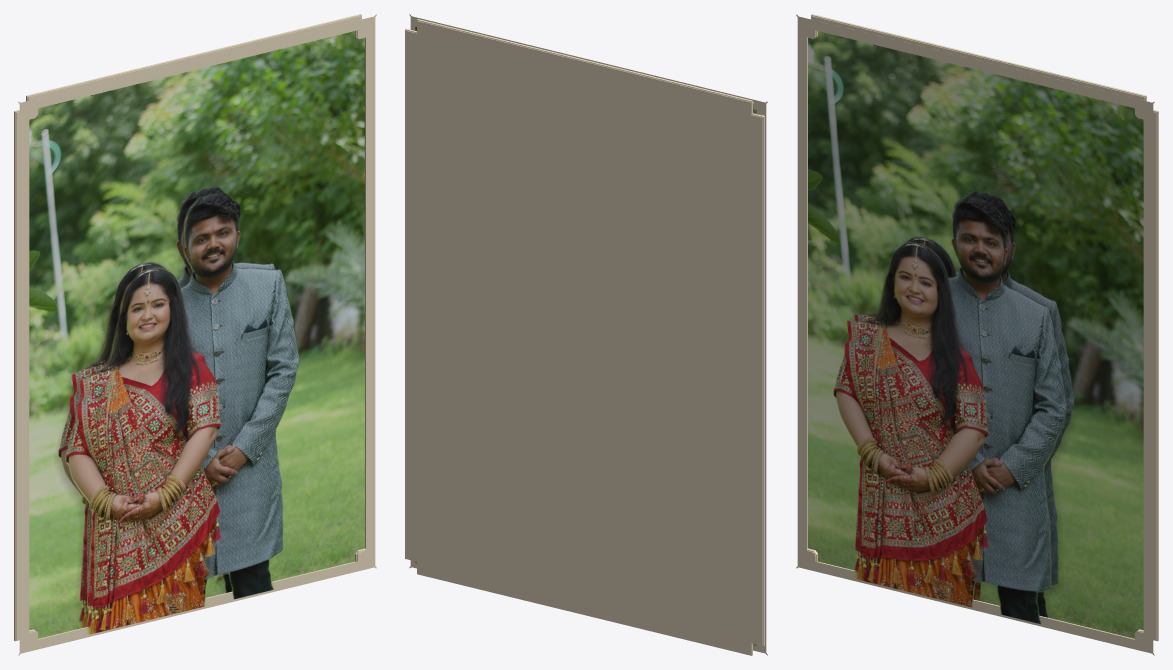
File: vandan_riddhi_3D_AR.glb
3 views of the same model, side by side, from view 1: azimuth 30°, elevation 25°; view 2: azimuth 150°, elevation 25°; view 3: azimuth 330°, elevation 25° (orthographic).
Parts seen in each view (by area): view 1: Layer1_Background_Photograph, Layer2_Foreground_Couple, Layer4_Decorative_Gold_Frame, Layer3_Champagne_Gold_Backing, Layer3_Ambient_Shadow; view 2: Layer3_Champagne_Gold_Backing, Layer4_Decorative_Gold_Frame; view 3: Layer1_Background_Photograph, Layer2_Foreground_Couple, Layer4_Decorative_Gold_Frame, Layer3_Champagne_Gold_Backing, Layer3_Ambient_Shadow.
Boxes of the visible parts, <box> form: Layer1_Background_Photograph: <box>29,31,364,638</box>; Layer2_Foreground_Couple: <box>65,192,299,634</box>; Layer4_Decorative_Gold_Frame: <box>18,14,376,655</box>; Layer3_Champagne_Gold_Backing: <box>14,14,361,641</box>; Layer3_Ambient_Shadow: <box>59,194,232,627</box>; Layer3_Champagne_Gold_Backing: <box>405,19,764,655</box>; Layer4_Decorative_Gold_Frame: <box>409,14,767,655</box>; Layer1_Background_Photograph: <box>808,31,1143,638</box>; Layer2_Foreground_Couple: <box>833,195,1066,624</box>; Layer4_Decorative_Gold_Frame: <box>796,14,1154,655</box>; Layer3_Champagne_Gold_Backing: <box>811,14,1158,641</box>; Layer3_Ambient_Shadow: <box>922,197,1073,616</box>.
Bounding box in the file's own units: 1.05 × 1.55 × 0.049.
Materials: 4 (3 with a texture image).
